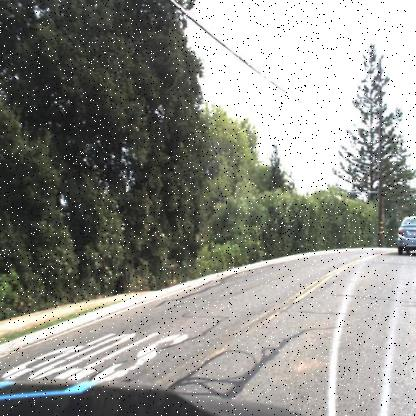car: (390, 210, 414, 258)
